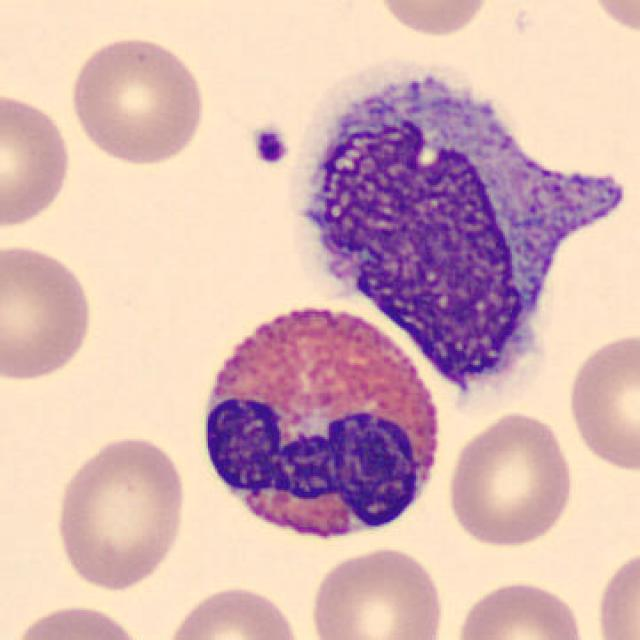Eosinophil: (186, 287, 452, 561)
Lymphocyte: (277, 48, 635, 409)
Platelets: (247, 120, 293, 169)
RBC: (50, 430, 190, 592), (66, 31, 210, 168), (442, 407, 578, 550), (0, 238, 98, 386), (306, 543, 448, 640), (564, 328, 638, 476), (0, 88, 75, 231), (449, 576, 590, 640), (158, 582, 308, 640), (12, 602, 145, 640), (592, 543, 638, 640), (382, 0, 491, 40), (583, 0, 640, 39)
